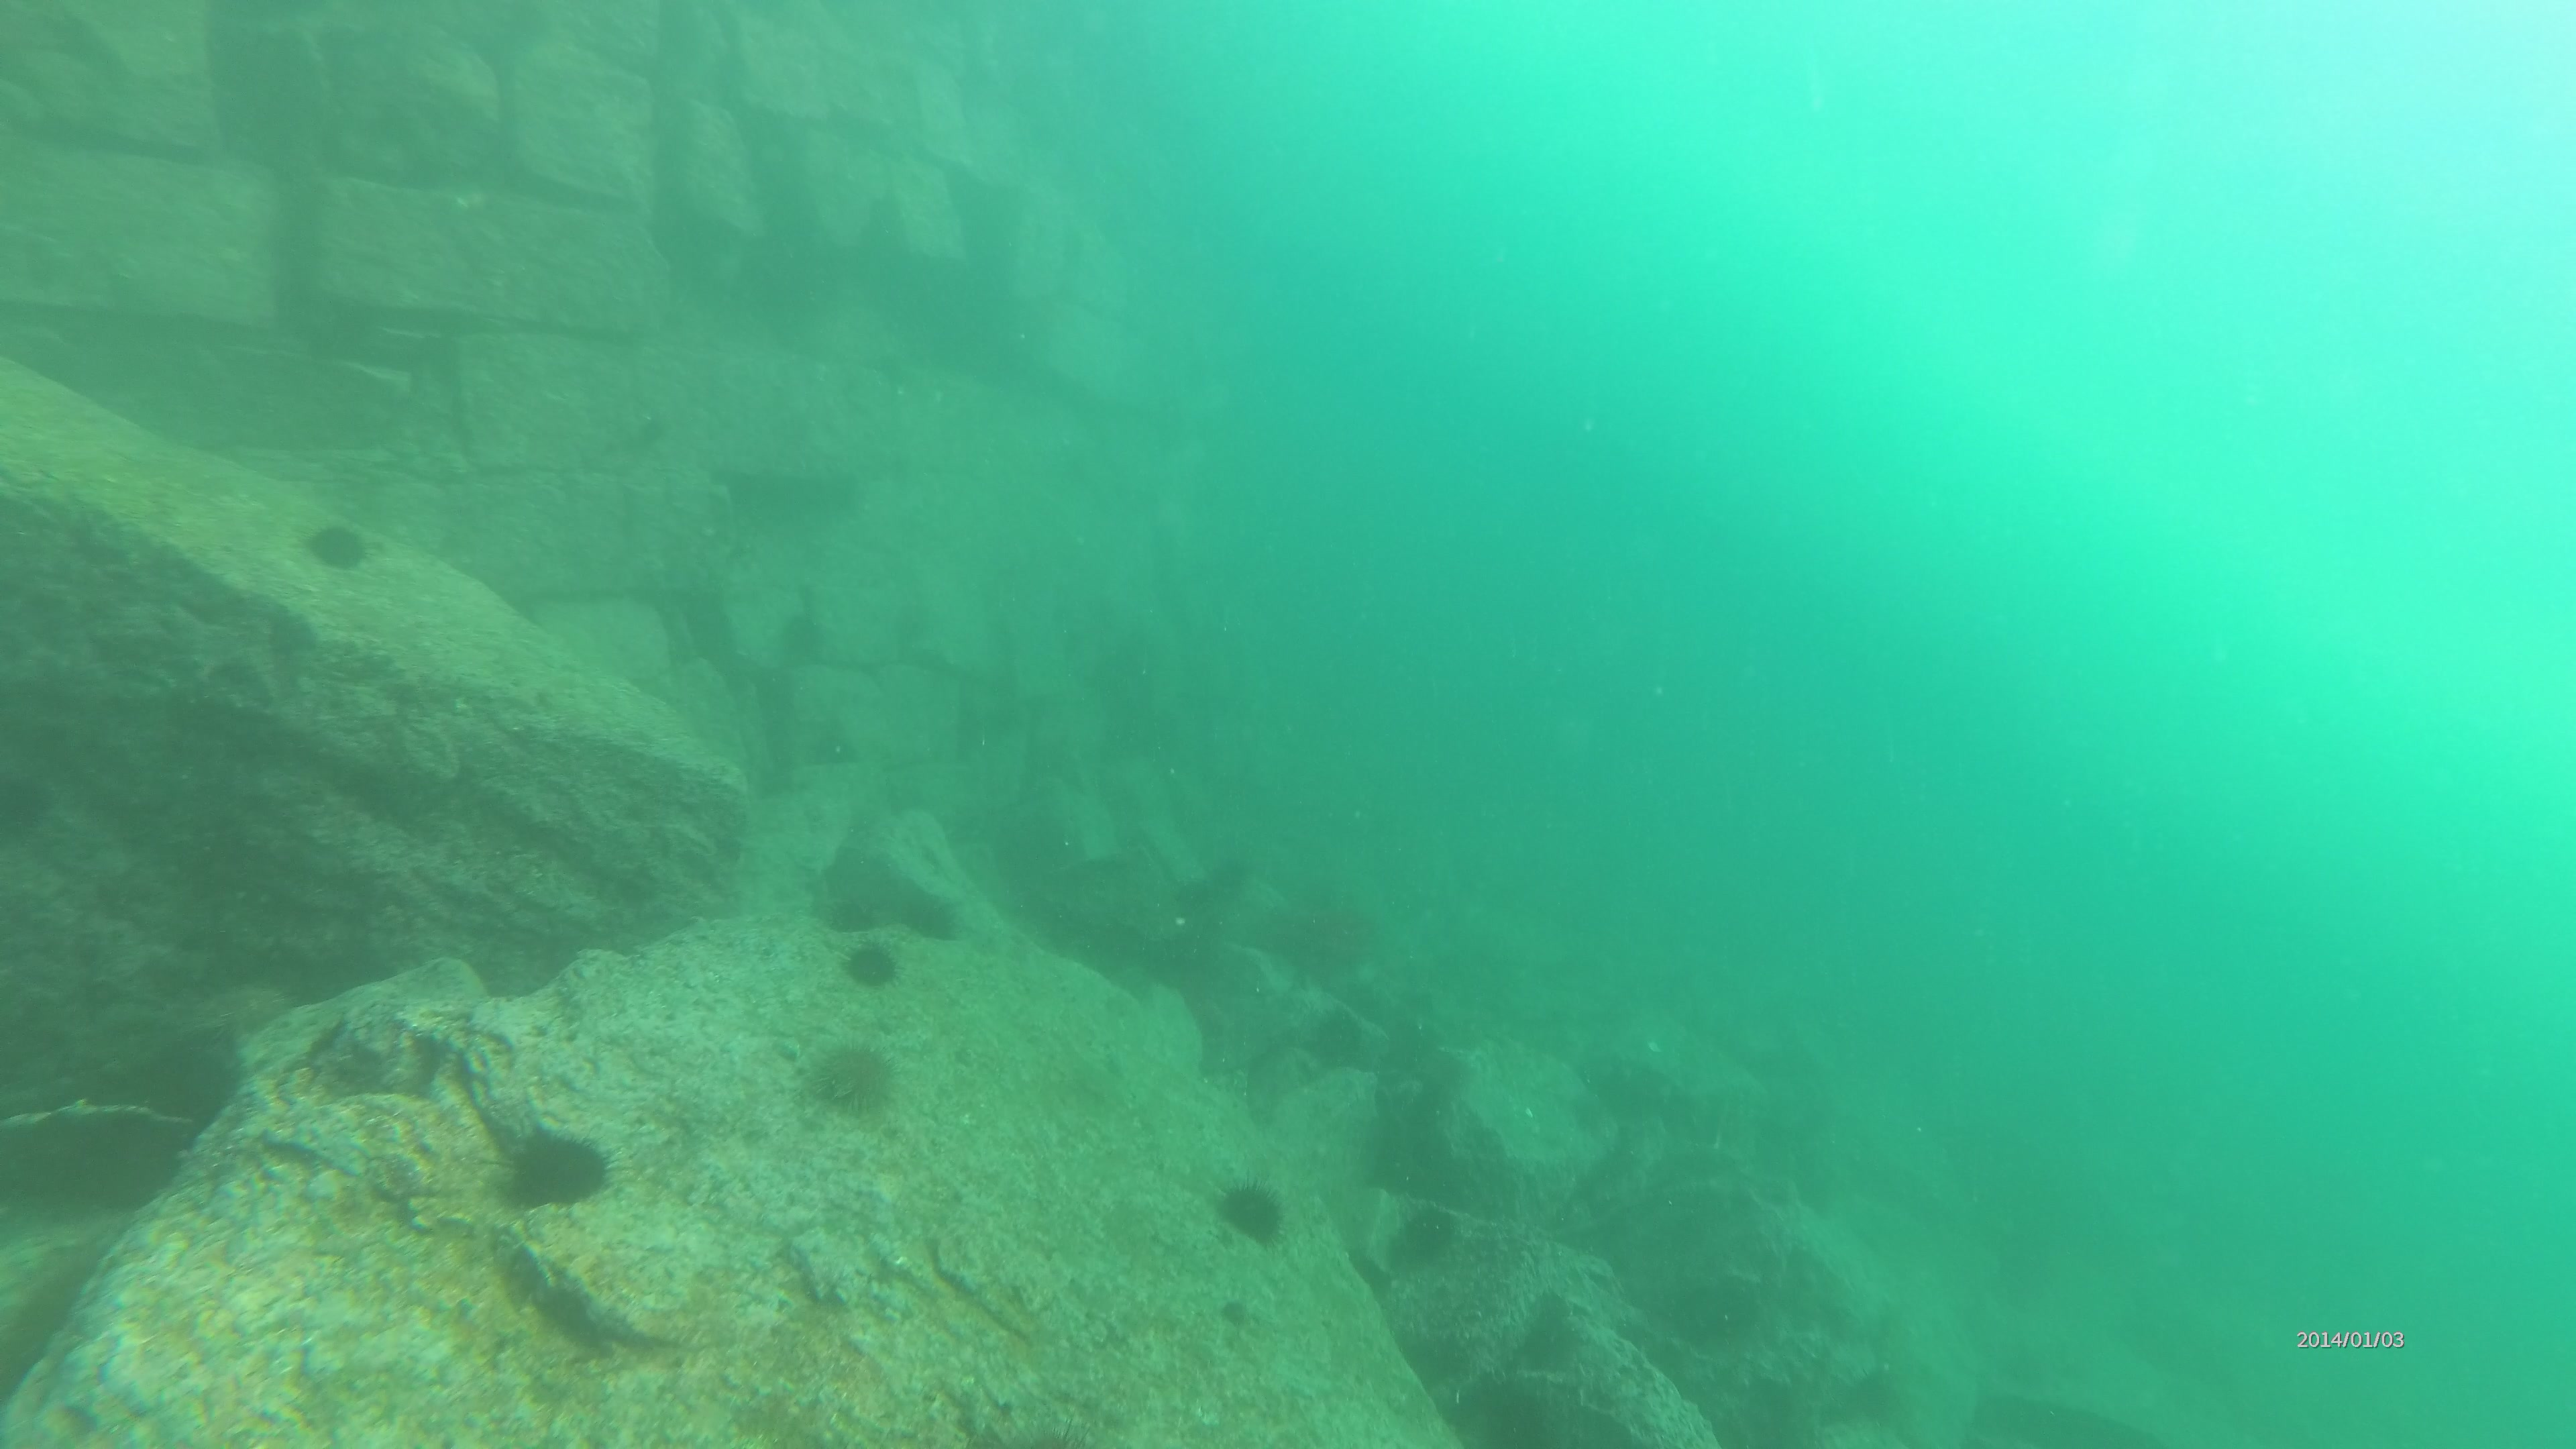echinus: (502, 1125, 628, 1210), (809, 1040, 906, 1127), (1660, 1283, 1755, 1353), (294, 511, 386, 579), (1210, 1171, 1283, 1254), (1511, 1283, 1582, 1362), (1389, 1198, 1470, 1263), (1838, 1357, 1911, 1430), (1304, 998, 1371, 1072), (833, 938, 909, 996), (775, 605, 840, 669), (794, 725, 872, 777), (904, 885, 962, 945), (1200, 851, 1258, 906), (819, 890, 879, 936)
